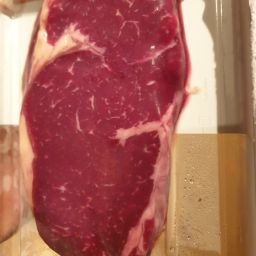Beef: (6, 29, 194, 256), (24, 2, 192, 222), (11, 1, 151, 256), (11, 96, 174, 256), (46, 25, 147, 184)
